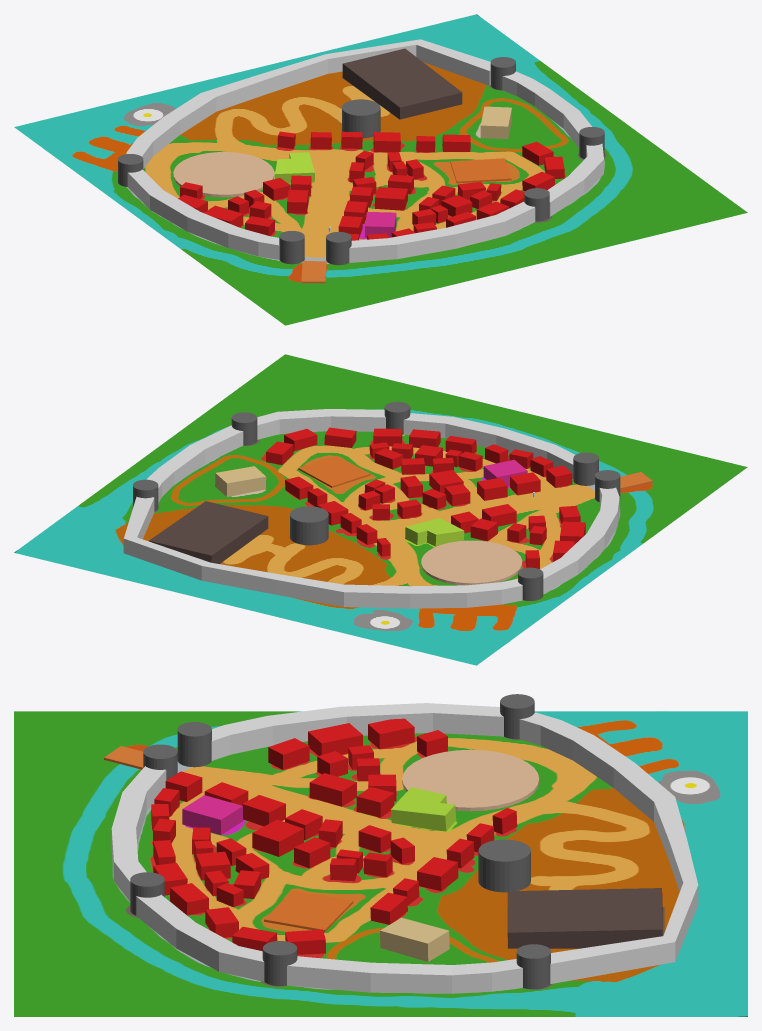
File: Map.fbx
The picture shows the model from 3 angles, top to bottom: view 1: azimuth 30°, elevation 25°; view 2: azimuth 150°, elevation 25°; view 3: azimuth 270°, elevation 25°; orthographic projection. The views are drawn at different scales.
Visible parts, largest first — view 1: Plane, Cube.056, Cube.049, Cube.053, Cube.052, Cylinder.007, Cube.055, Cube.054, Cylinder.008, Cube.048, Cube.047, Cube.031 (+10 smaller); view 2: Plane, Cube.056, Cube.049, Cylinder.007, Cube.053, Cube.052, Cube.054, Cube.055, Cylinder.008, Cube.048, Cube.031, Cube.047 (+13 smaller); view 3: Plane, Cube.056, Cube.049, Cube.052, Cube.055, Cylinder.007, Cube.054, Cube.053, Cylinder.008, Cube.048, Cube.047, Cube.031 (+37 smaller).
Boxes of the visible parts, left/top/right/bottom form: Plane: left=14, top=14, right=747, bottom=325; Cube.056: left=126, top=39, right=490, bottom=168; Cube.049: left=342, top=48, right=462, bottom=119; Cube.053: left=349, top=202, right=535, bottom=262; Cube.052: left=127, top=169, right=279, bottom=259; Cylinder.007: left=173, top=152, right=274, bottom=197; Cube.055: left=502, top=71, right=591, bottom=147; Cube.054: left=547, top=143, right=603, bottom=216; Cylinder.008: left=342, top=99, right=380, bottom=138; Cube.048: left=450, top=158, right=511, bottom=183; Cube.047: left=480, top=106, right=511, bottom=139; Cube.031: left=275, top=152, right=314, bottom=183; Plane: left=14, top=354, right=747, bottom=665; Cube.056: left=123, top=496, right=522, bottom=608; Cube.049: left=149, top=501, right=268, bottom=563; Cylinder.007: left=421, top=540, right=522, bottom=585; Cube.053: left=403, top=413, right=574, bottom=478; Cube.052: left=540, top=487, right=619, bottom=593; Cube.054: left=257, top=409, right=385, bottom=439; Cube.055: left=146, top=425, right=243, bottom=502; Cylinder.008: left=290, top=506, right=328, bottom=545; Cube.048: left=298, top=455, right=370, bottom=487; Cube.031: left=405, top=518, right=464, bottom=546; Cube.047: left=215, top=466, right=266, bottom=496; Plane: left=14, top=711, right=747, bottom=1016; Cube.056: left=519, top=712, right=698, bottom=983; Cube.049: left=507, top=888, right=662, bottom=948; Cube.052: left=211, top=703, right=503, bottom=760; Cube.055: left=287, top=956, right=522, bottom=993; Cylinder.007: left=402, top=749, right=539, bottom=811; Cube.054: left=136, top=894, right=264, bottom=981; Cube.053: left=111, top=766, right=166, bottom=901; Cylinder.008: left=478, top=839, right=530, bottom=892; Cube.048: left=264, top=890, right=353, bottom=932; Cube.047: left=380, top=917, right=449, bottom=961; Cube.031: left=390, top=787, right=456, bottom=831.
Bounding box in the file's own units: 46442 × 2758 × 47145.
